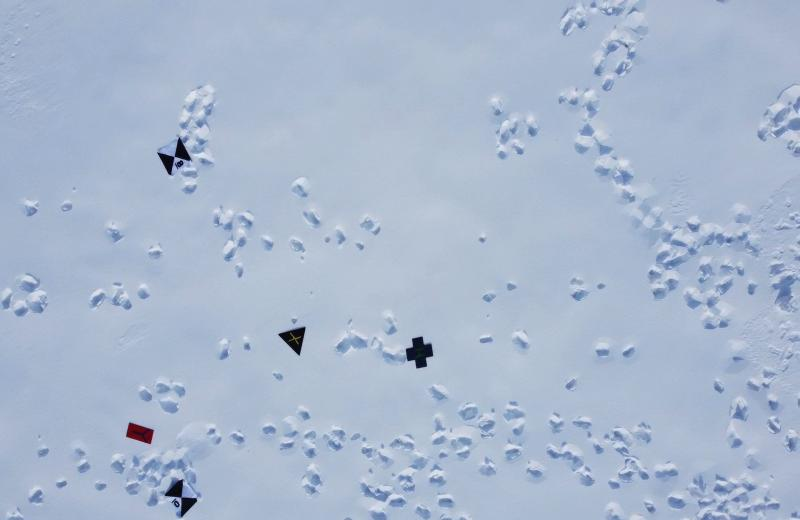Cross: (402, 333, 439, 370)
Rectangle: (125, 419, 157, 449)
Triangle: (278, 326, 313, 362)
